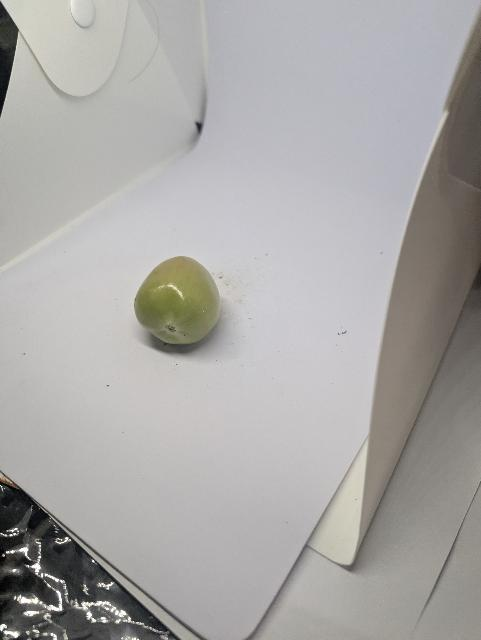green: (122, 239, 242, 366)
